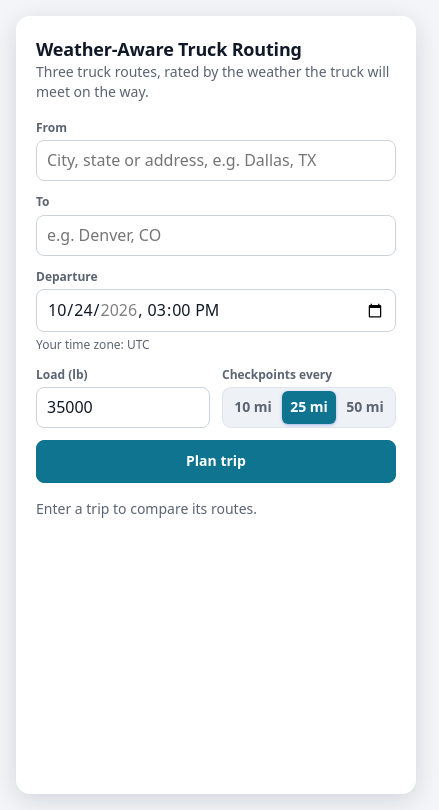
Test: App › hides the heatmap slider and the legend when the map can't be shown
The width and height of the screenshot is (439, 810).
Step 1. Type "Dallas, TX" into the dropdown labelled "From" → (216, 161), box [36, 140, 396, 181]
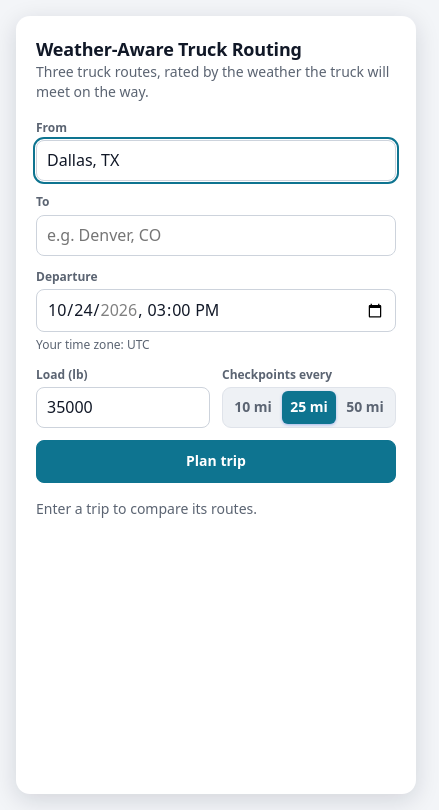
Step 2. Type "Denver, CO" into the dropdown labelled "To" → (216, 235), box [36, 215, 396, 256]
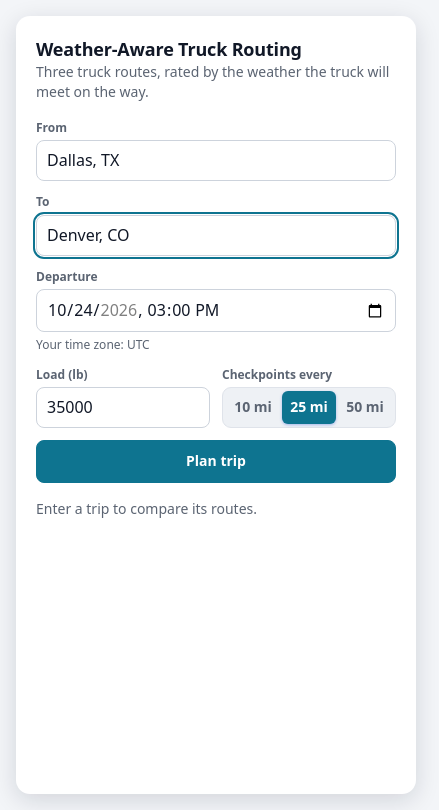
Step 3. Click the button "Plan trip" → click(216, 462), box [36, 440, 396, 483]
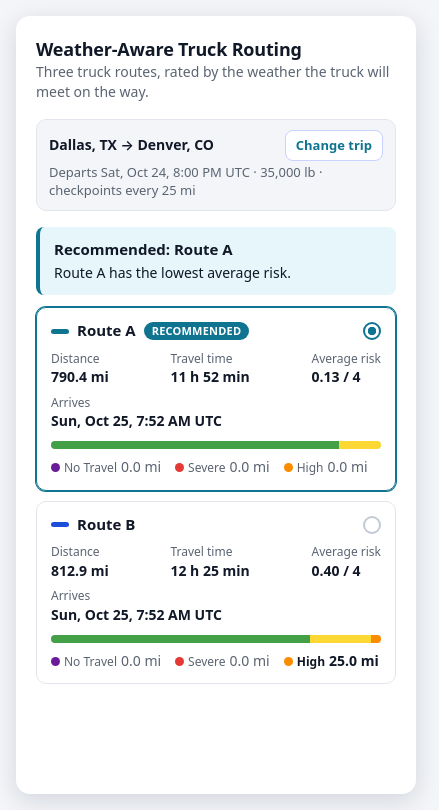
Result: the heading "Recommended: Route A" is shown at [54, 239, 233, 259]
